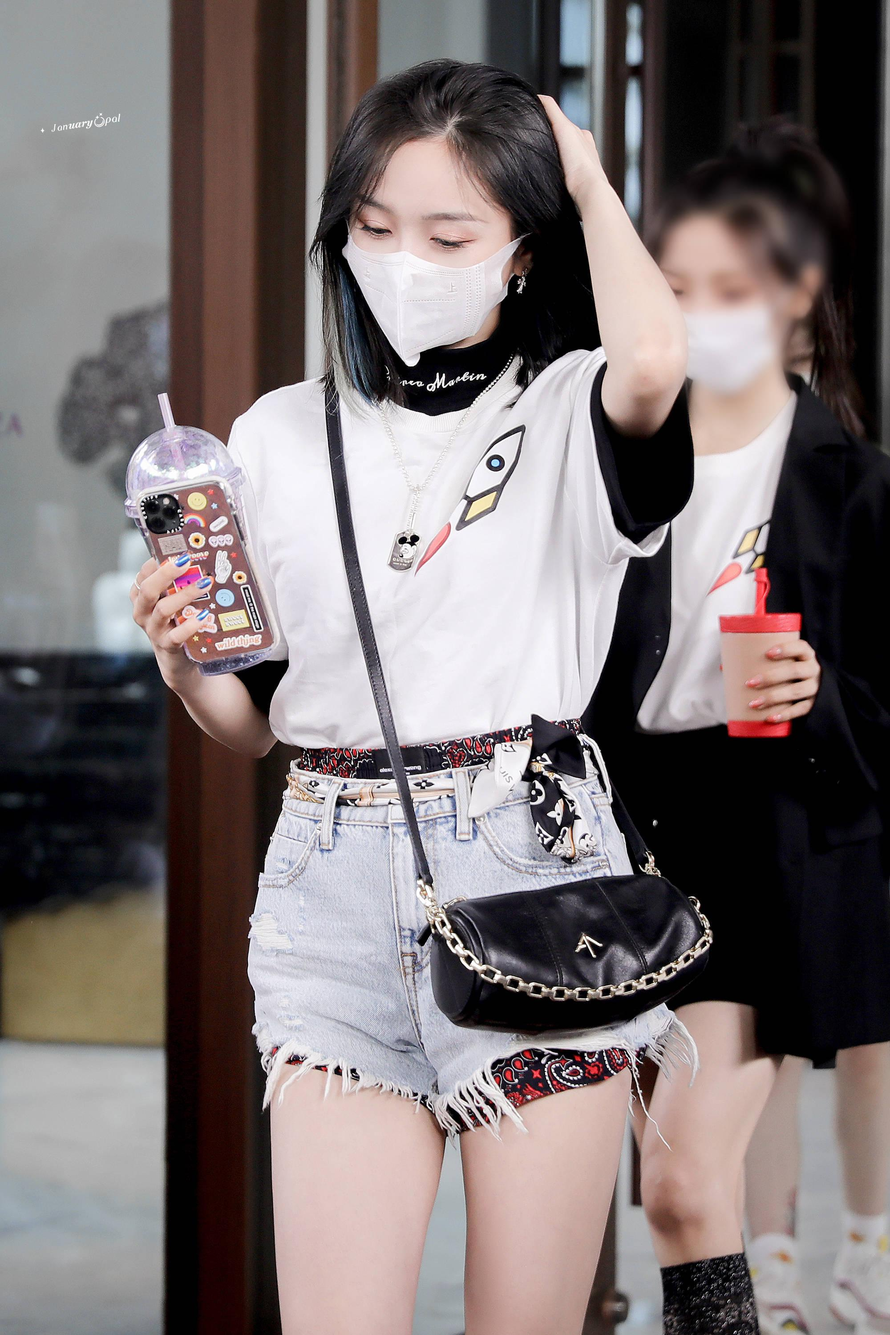OK: (348, 175, 498, 364), (654, 243, 770, 395)
